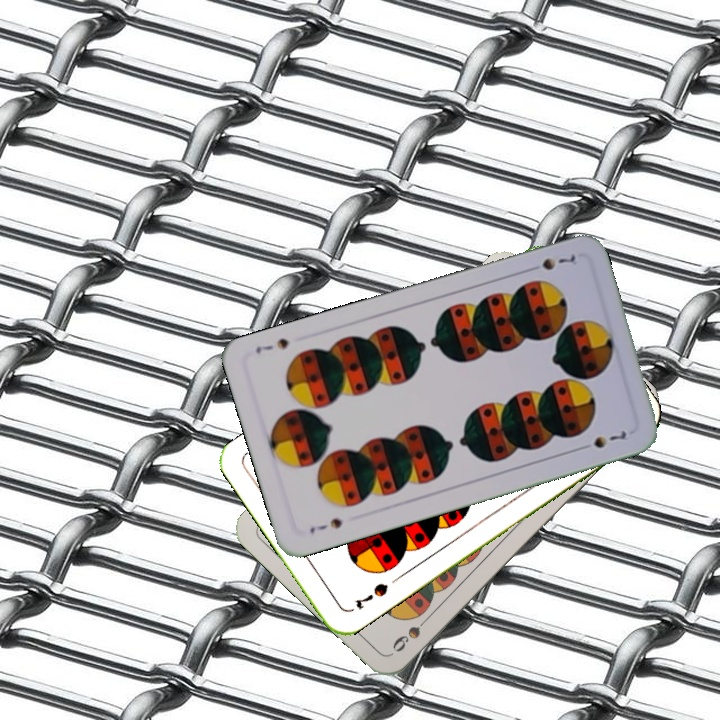S7: (351, 578, 391, 612), (523, 250, 579, 274), (305, 514, 345, 537)
S9: (388, 609, 435, 655)
